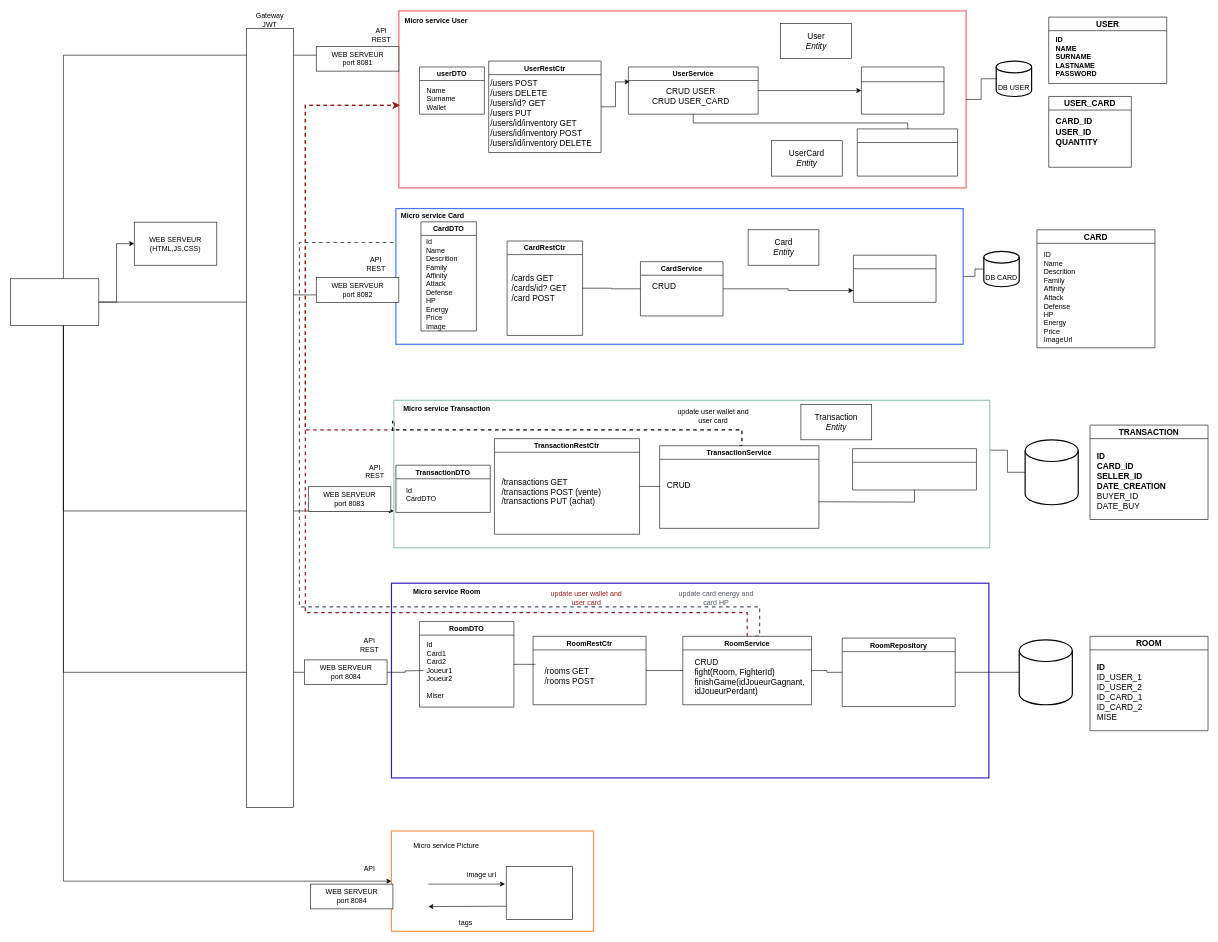
The diagram is 1218 pixels wide and 942 high, and some of its shapes have lost their labels. Here are the shapes that lost their labels. From the top down, the centre of each, then its label:
At (902,90): "UserRepository".
At (907,152): "UserCardRepository".
At (894,278): "CardRepository".
At (54,301): "WEB BROWSER".
At (914,469): "TransactionRepository".
At (1051,472): "DB TRANSACTION".
At (1045,672): "DB ROOM".
At (539,893): "Script Python".
